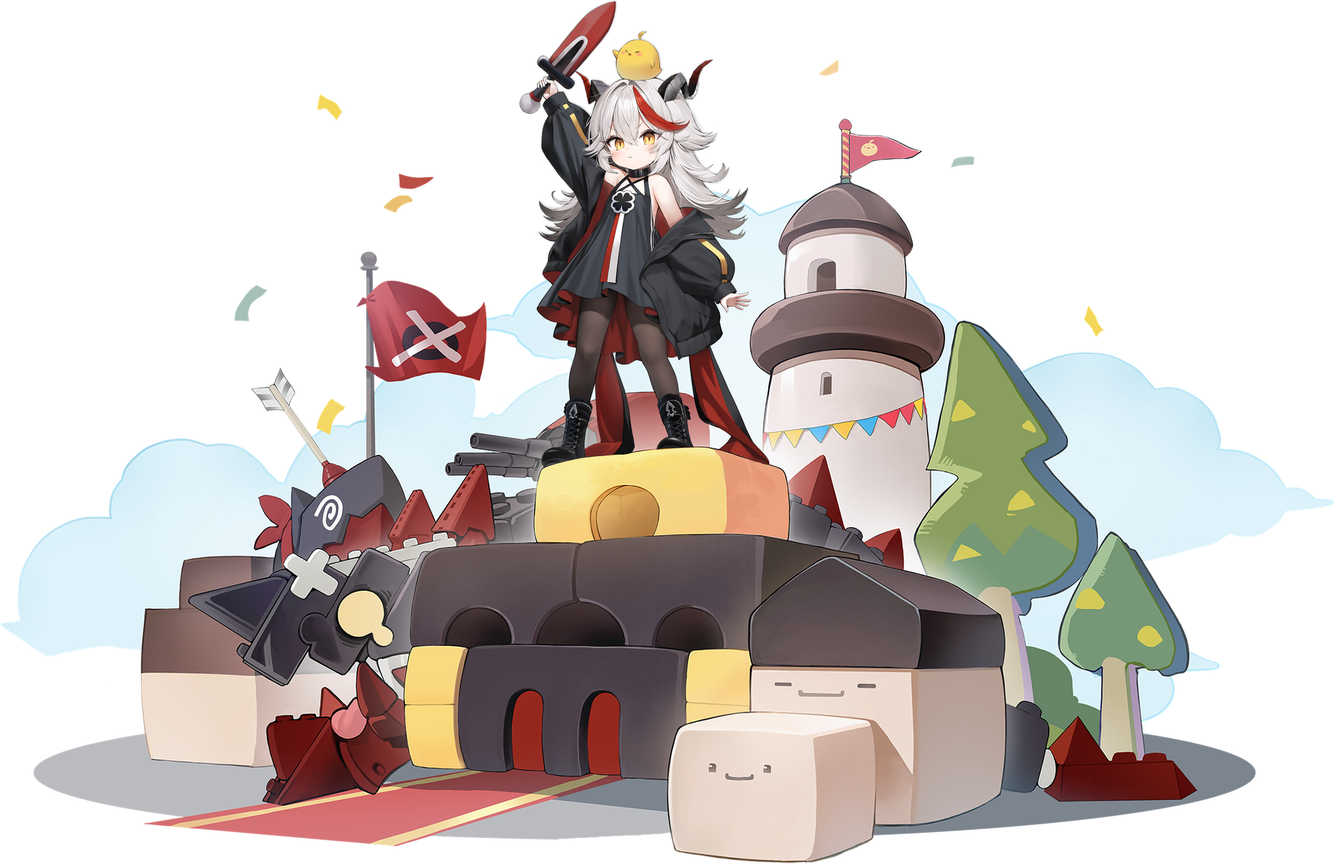person: (486, 2, 784, 494)
